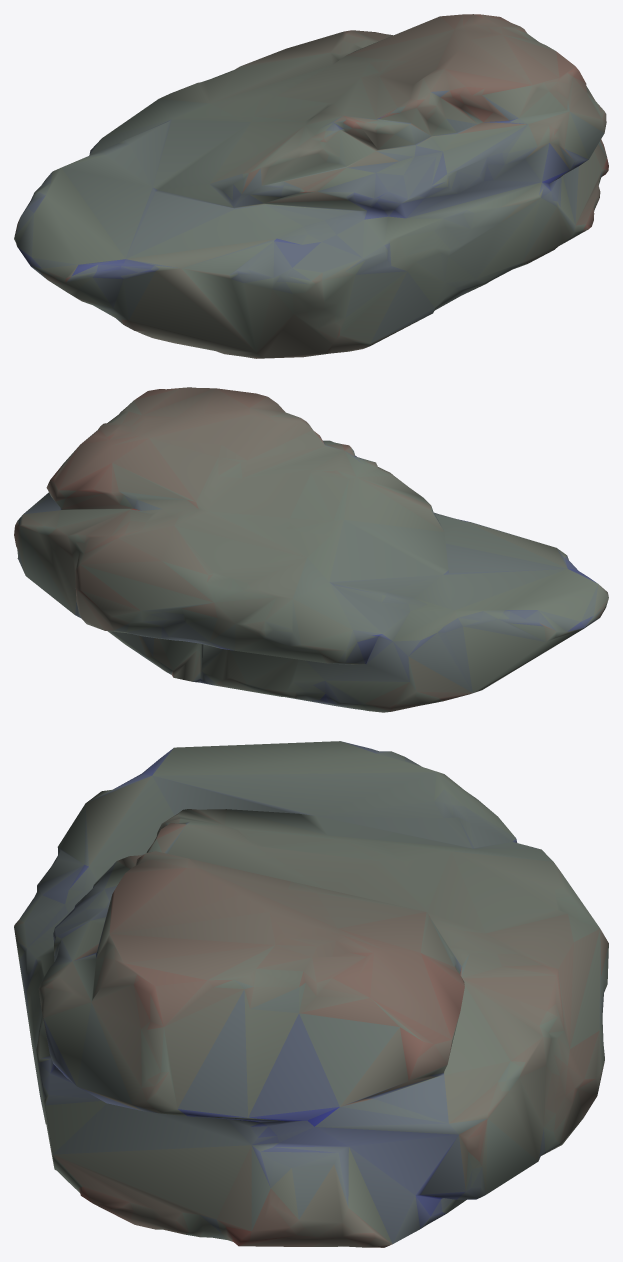
File: rock_single_01.fbx
3 renders of one model, top to bottom at view 1: azimuth 30°, elevation 25°; view 2: azimuth 150°, elevation 25°; view 3: azimuth 270°, elevation 25°, orthographic. The views are drawn at different scales.
Parts seen in each view (by area): view 1: Rock_Single_01; view 2: Rock_Single_01; view 3: Rock_Single_01.
Part boxes in pixels (bbox=[...]): Rock_Single_01: bbox=[14, 14, 608, 358]; Rock_Single_01: bbox=[14, 387, 608, 712]; Rock_Single_01: bbox=[14, 741, 608, 1247].
Size of the model in its own units: 398 by 147 by 233.
